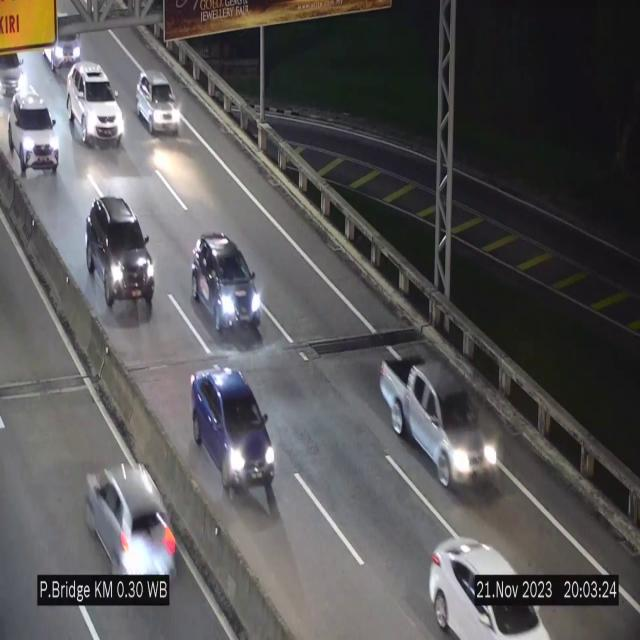Car: (376, 352, 499, 493), (75, 440, 185, 596), (423, 514, 555, 640), (191, 366, 275, 508), (89, 193, 159, 312), (191, 233, 263, 336), (67, 62, 124, 145), (8, 90, 60, 180), (136, 70, 181, 134), (43, 13, 87, 74), (0, 46, 36, 113)
